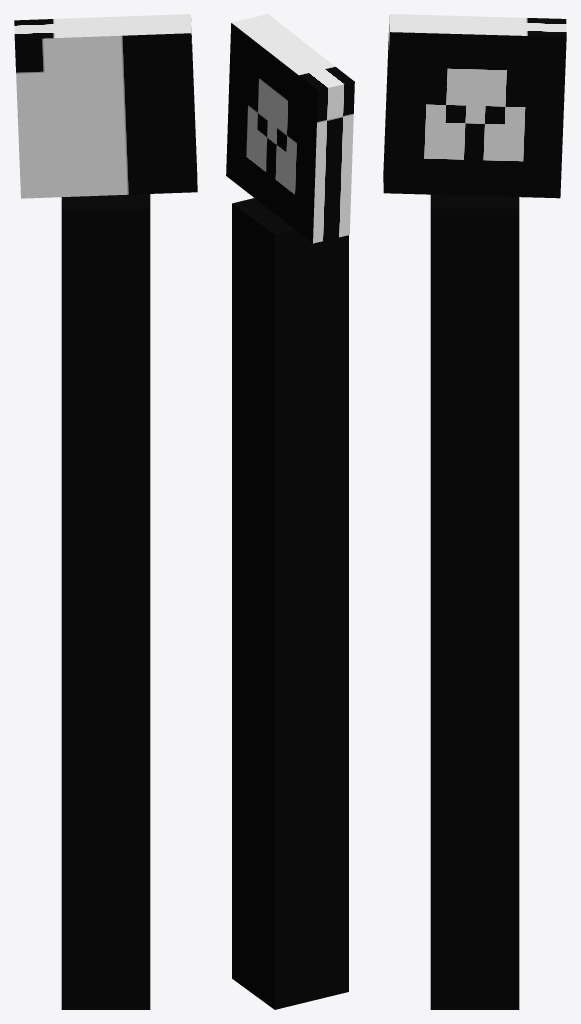
Rendered from tag4_w_holder.dae.
3 views of the same model, side by side, from view 1: azimuth 90°, elevation 25°; view 2: azimuth 210°, elevation 25°; view 3: azimuth 270°, elevation 25° (orthographic). The views are drawn at different scales.
Parts seen in each view (by area): view 1: Cube.001, Cube; view 2: Cube.001, Cube; view 3: Cube.001, Cube.
Part boxes in pixels (<box>): Cube.001: <box>61,194,150,1009</box>; Cube: <box>14,14,197,198</box>; Cube.001: <box>232,198,348,1009</box>; Cube: <box>226,14,354,243</box>; Cube.001: <box>430,194,519,1009</box>; Cube: <box>383,14,566,198</box>.
Bounding box in the file's own units: 0.1 × 0.2074 × 1.21.
2 materials, 1 textured.
